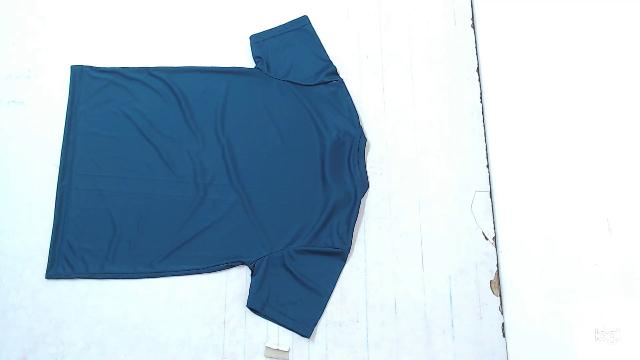new-garment: (46, 16, 368, 338)
